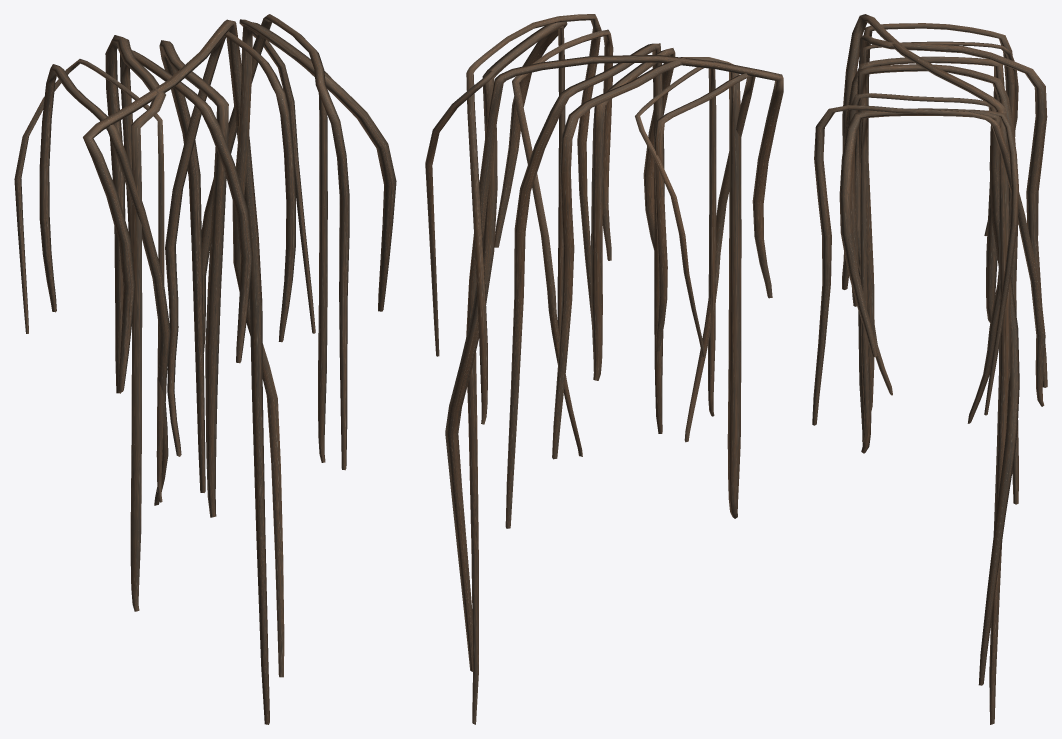
File: SM_HangingLianas_1.fbx
3 views of the same model, side by side, from view 1: azimuth 30°, elevation 25°; view 2: azimuth 150°, elevation 25°; view 3: azimuth 270°, elevation 25° (orthographic). The views are drawn at different scales.
Visible parts, largest first — view 1: SM_HangingLianas_1_LOD0; view 2: SM_HangingLianas_1_LOD0; view 3: SM_HangingLianas_1_LOD0.
Part boxes in pixels (left/top/right/bottom): SM_HangingLianas_1_LOD0: left=14, top=14, right=396, bottom=724; SM_HangingLianas_1_LOD0: left=425, top=14, right=783, bottom=724; SM_HangingLianas_1_LOD0: left=812, top=14, right=1047, bottom=724.
Size of the model in its own units: 45.59 by 35.46 by 102.
